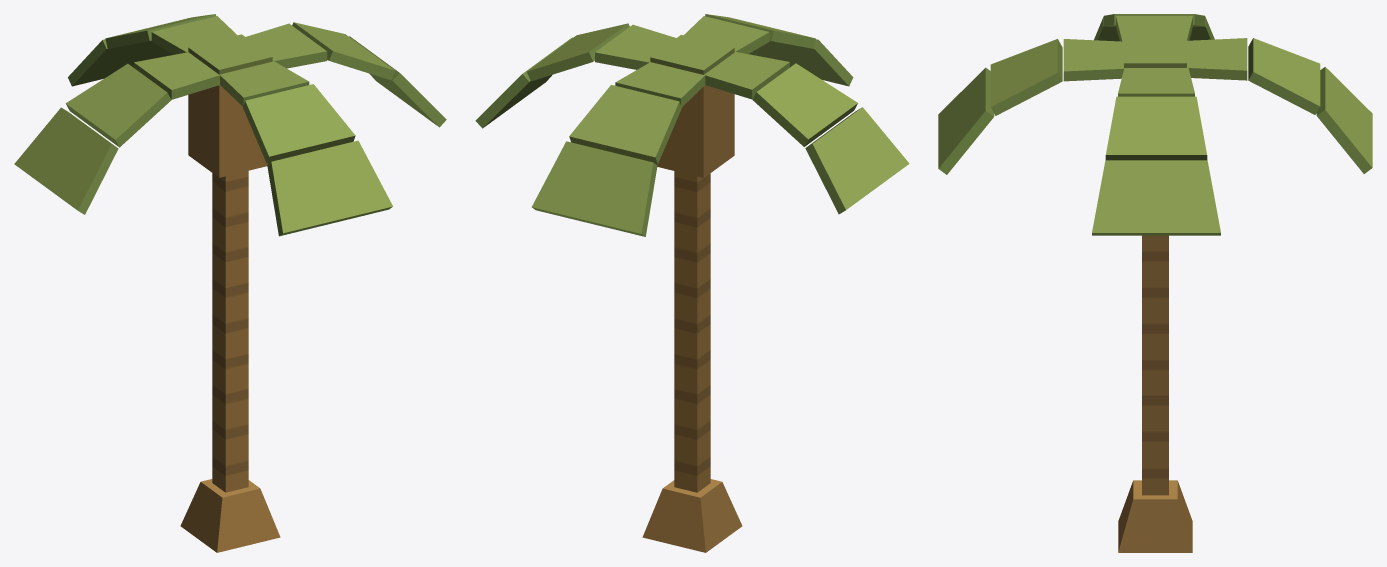
File: SM_Env_Palm_02.fbx
The picture shows the model from 3 angles, left to right: view 1: azimuth 30°, elevation 25°; view 2: azimuth 150°, elevation 25°; view 3: azimuth 270°, elevation 25°; orthographic projection.
Parts seen in each view (by area): view 1: SM_Env_Palm_02; view 2: SM_Env_Palm_02; view 3: SM_Env_Palm_02.
Part boxes in pixels (<box>): SM_Env_Palm_02: <box>14,14,446,552</box>; SM_Env_Palm_02: <box>475,14,909,552</box>; SM_Env_Palm_02: <box>938,14,1372,552</box>.
Size of the model in its own units: 6.22 by 7.7 by 6.22.
